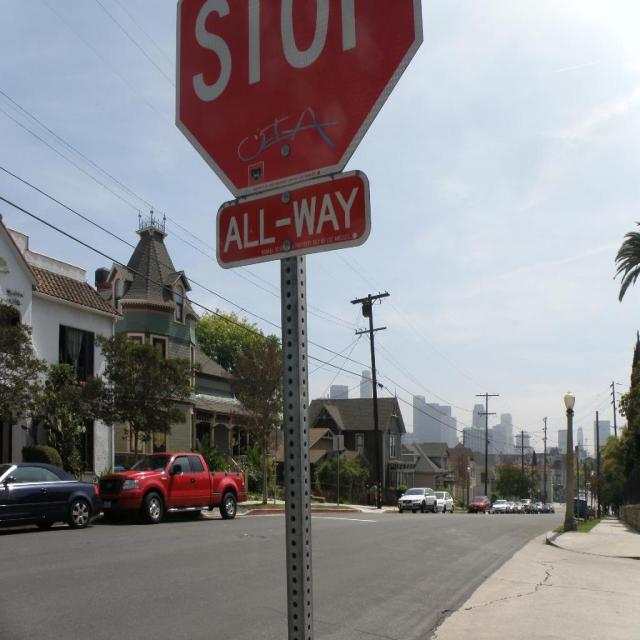Stop-sign: (175, 0, 424, 199)
